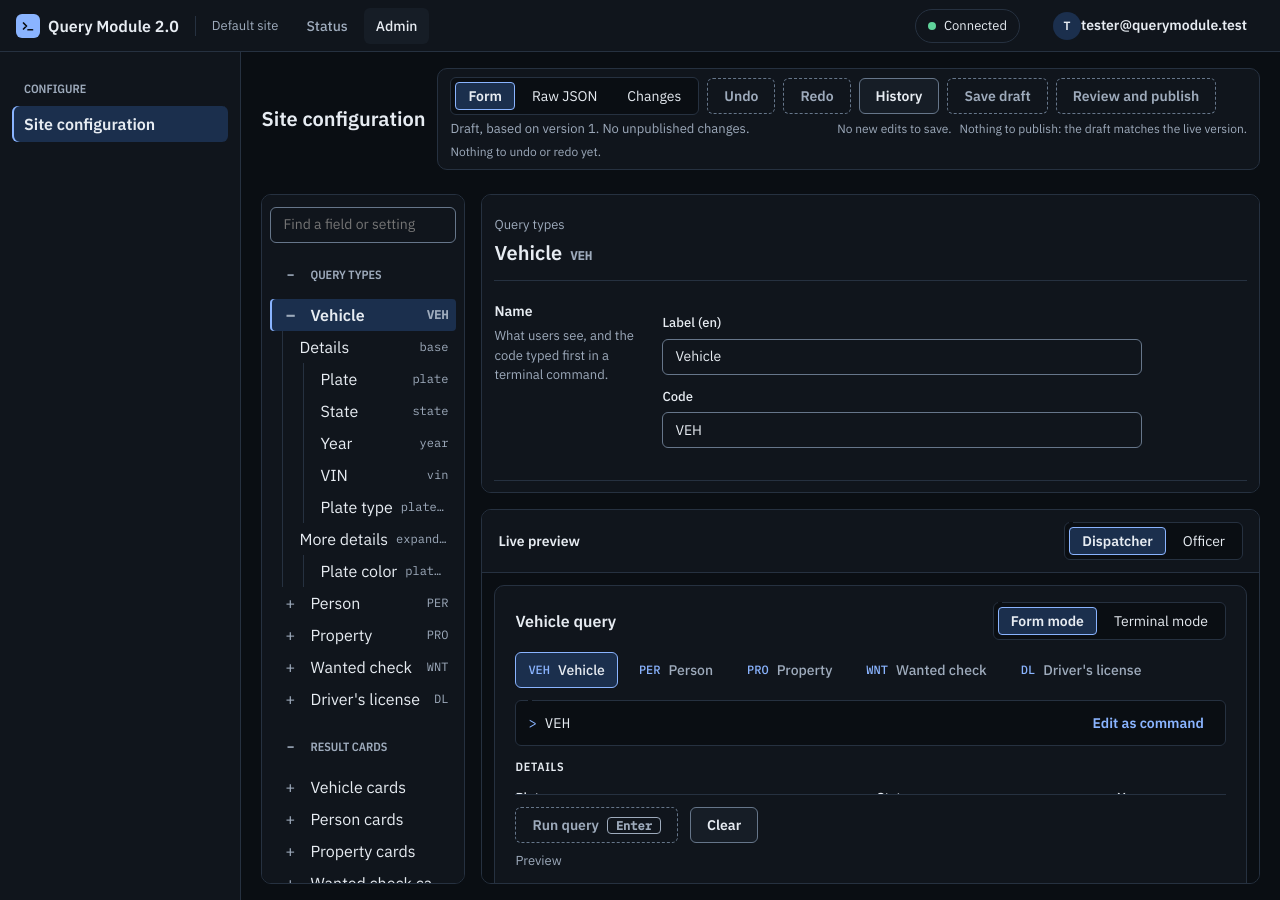
A3 query type editor: ruled sections › groups the type into labelled sections in order, Advanced settings last and closed
The image size is (1280, 900).
Expected: the tab "Form" is shown, [456,82,515,110]
Click the list item "Vehicle VEH" at (363, 314), box [270,298,456,330]
(page scrolled)
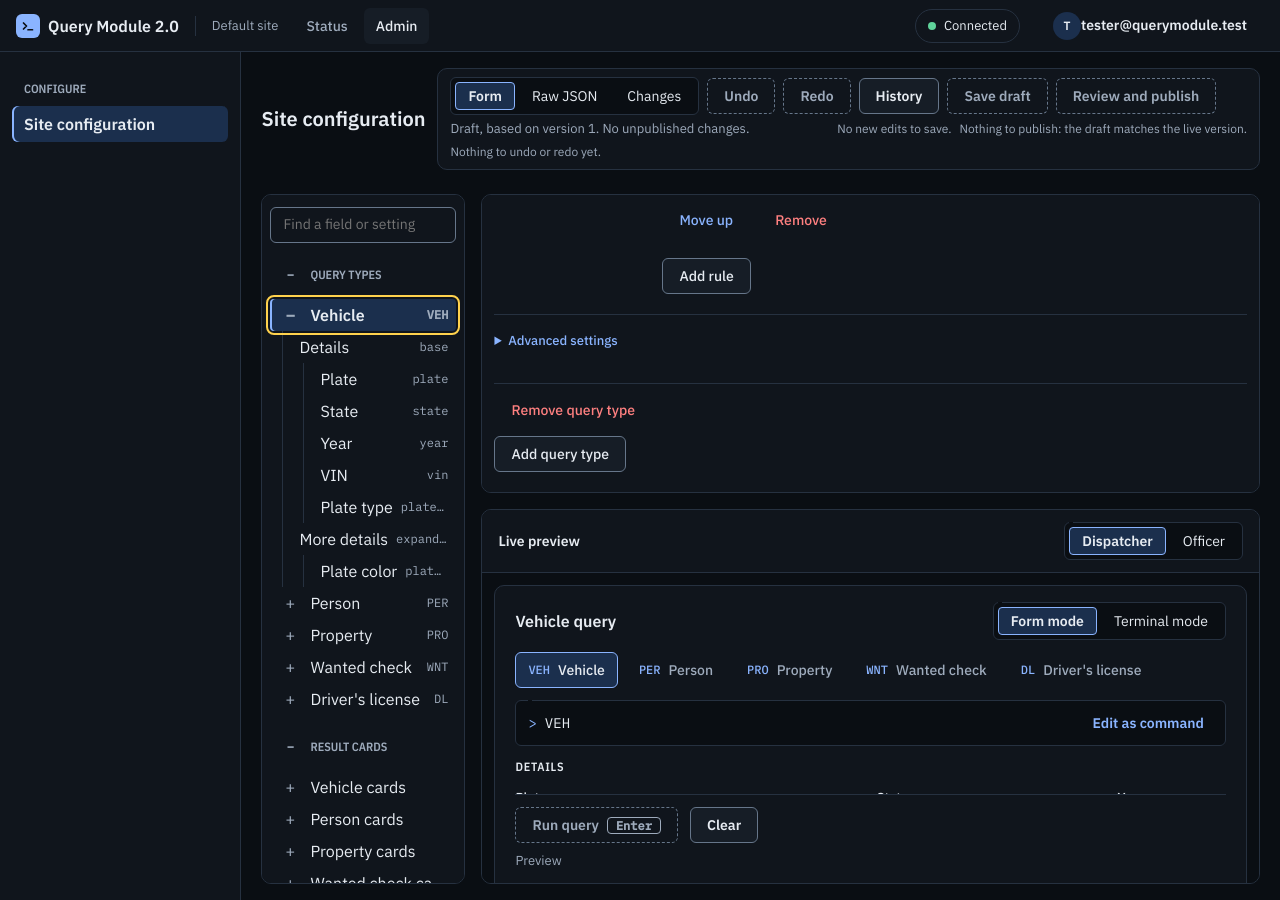
Now the heading "Advanced settings" is shown, box [508,332,618,349]
Now the element named "Label key" holds "queryType.VEH", box [494,314,1247,384]
